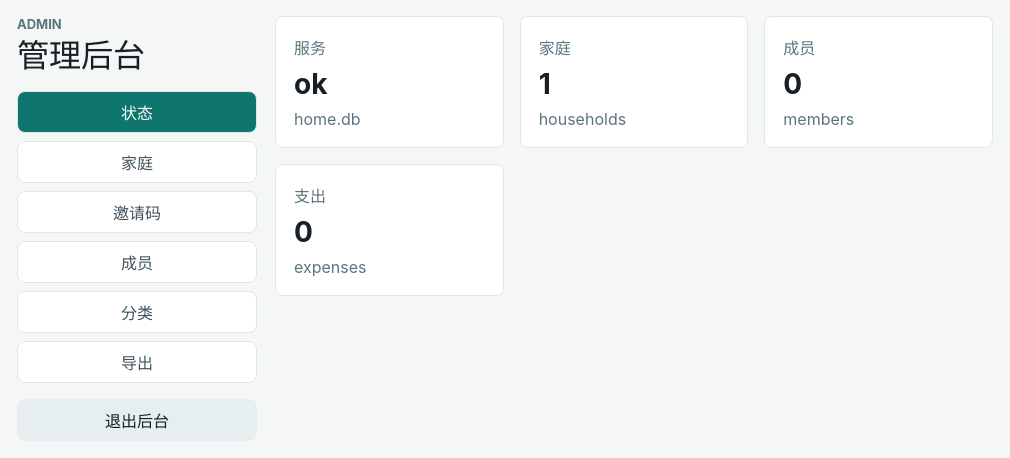
admin public entry › refreshes admin status after a household mutation succeeds
The image size is (1010, 458).
Expected: the navigation bar named "后台导航" is shown, [17,91,257,383]
Click the button "家庭" at (137, 162), box [17,141,257,183]
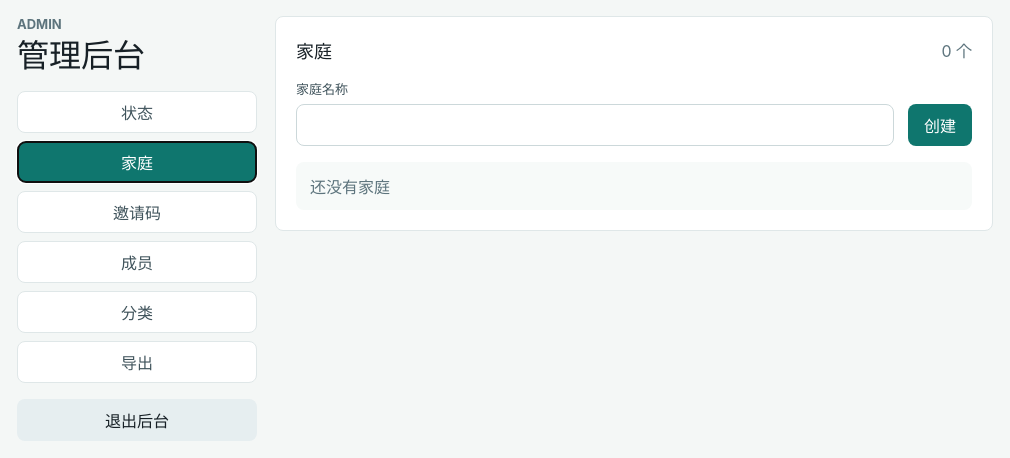
Type "新家庭" into the field labelled "家庭名称" at (595, 125), box [296,104,894,146]
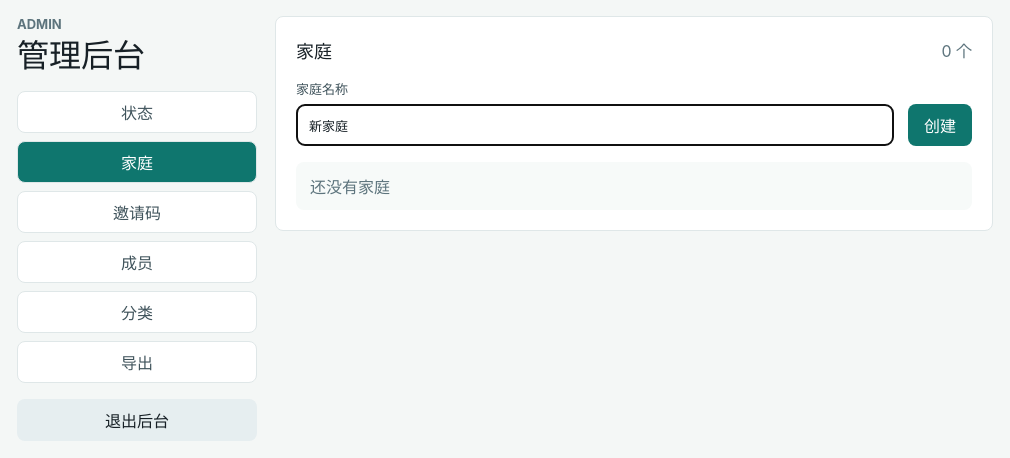
Click the button "创建" at (940, 125), box [908,104,972,146]
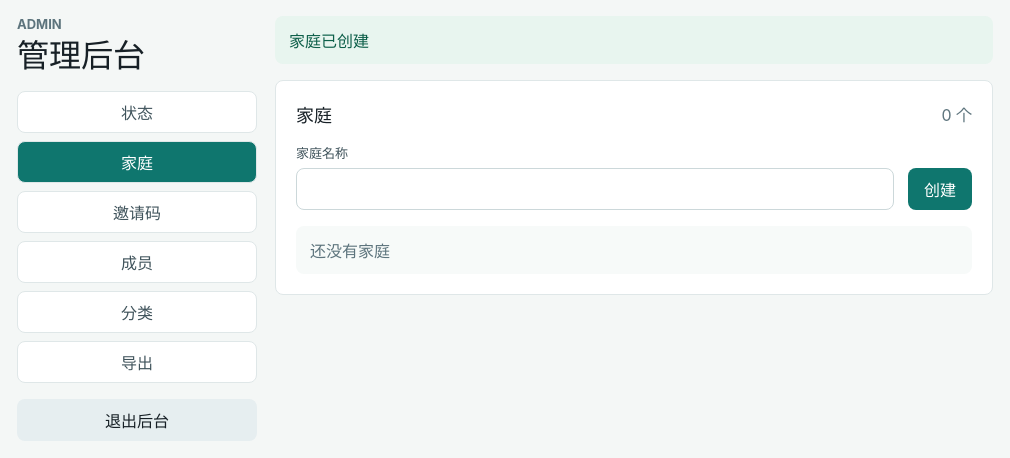
Click the button "状态" at (137, 112), box [17,91,257,133]
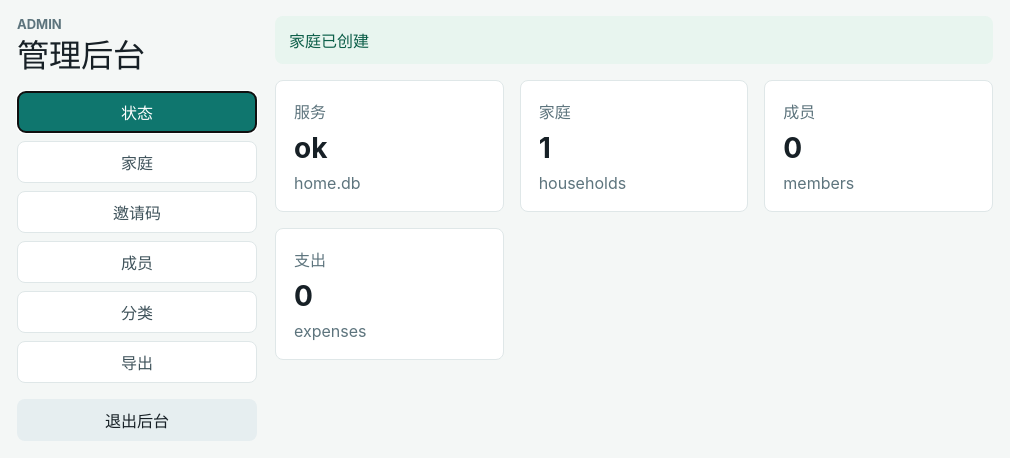
Result: the text "1" is shown at [539,131,551,165]
